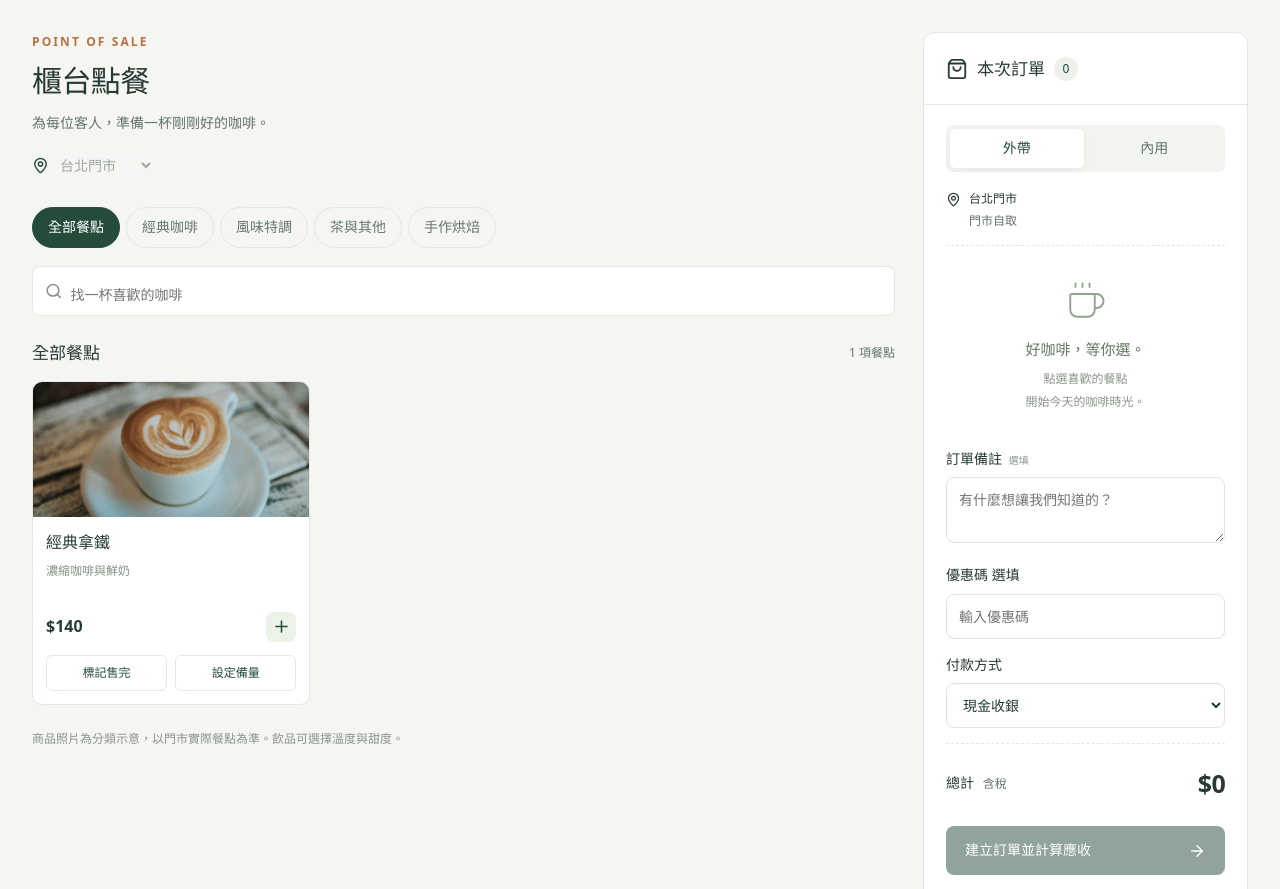
Test: MenuView 可見性 › 門市人員選擇綠界時看不到實收並前往付款
This screenshot has width=1280, height=889.
Click the button "經典拿鐵 濃縮咖啡與鮮奶 $140 標記售完 設定備量": click(171, 449) x1=32 y1=381 x2=310 y2=705
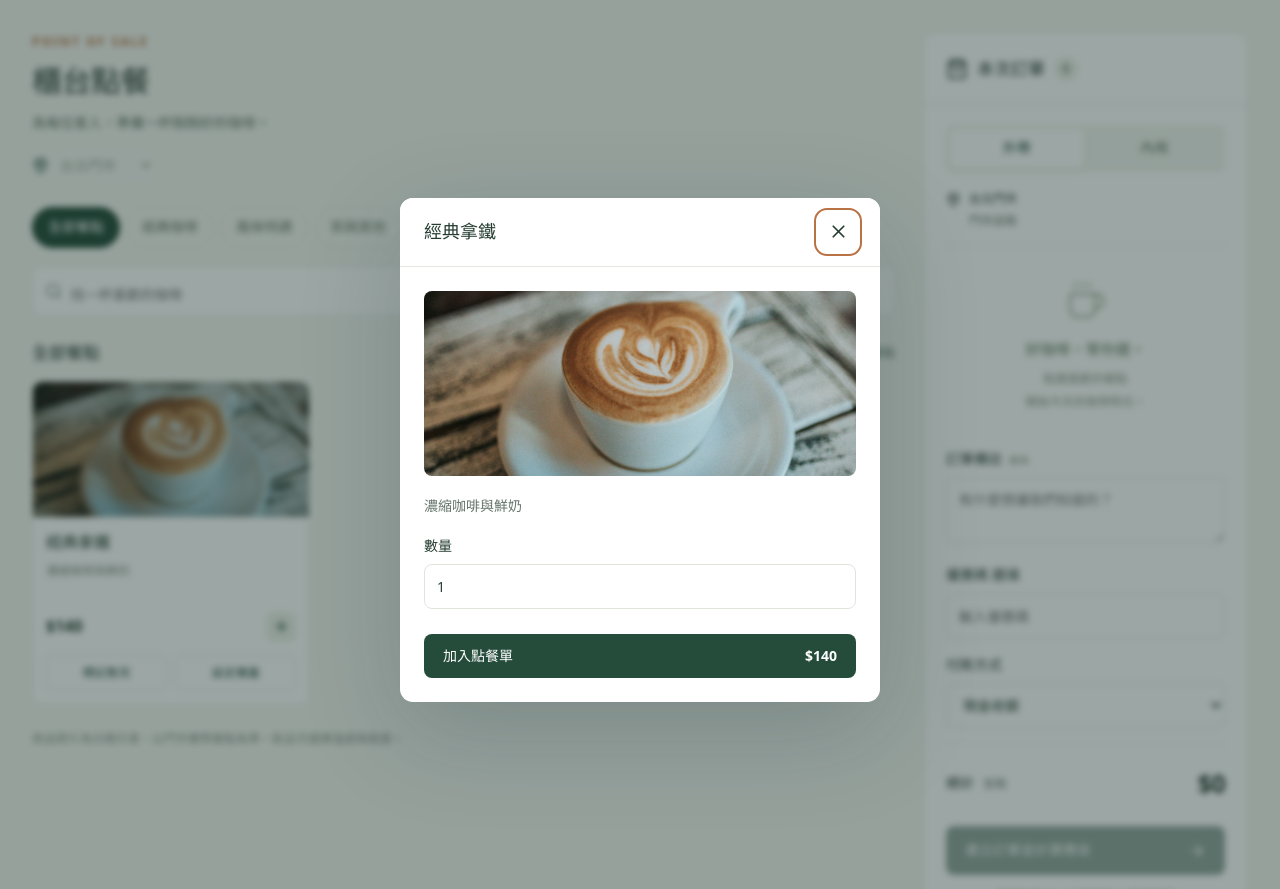
Expected: the button "加入點餐單 $140" is shown
Click the button "加入點餐單 $140": click(478, 656) x1=424 y1=634 x2=856 y2=678
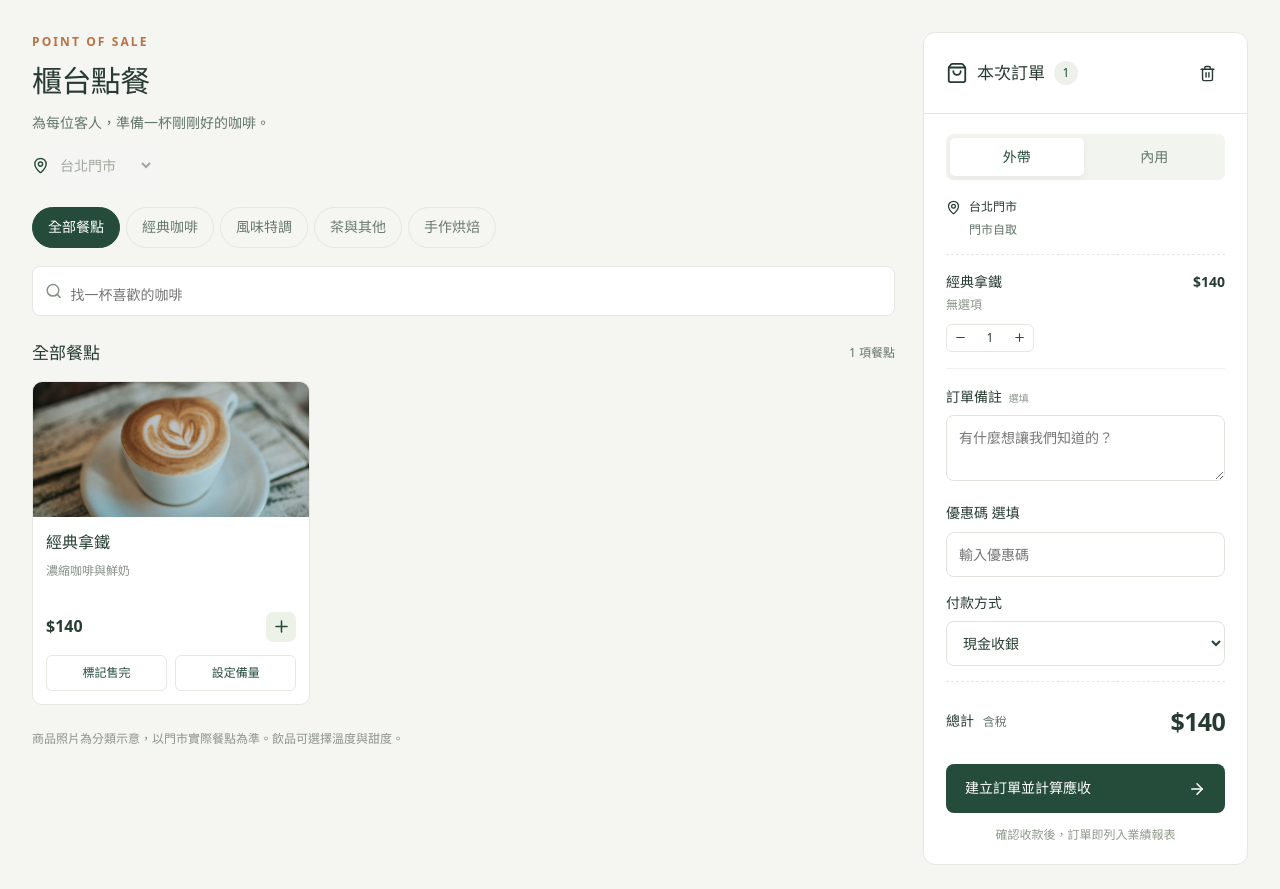
Select "綠界信用卡（測試環境）" in the dropdown labelled "付款方式": (1086, 644) x1=946 y1=621 x2=1225 y2=666
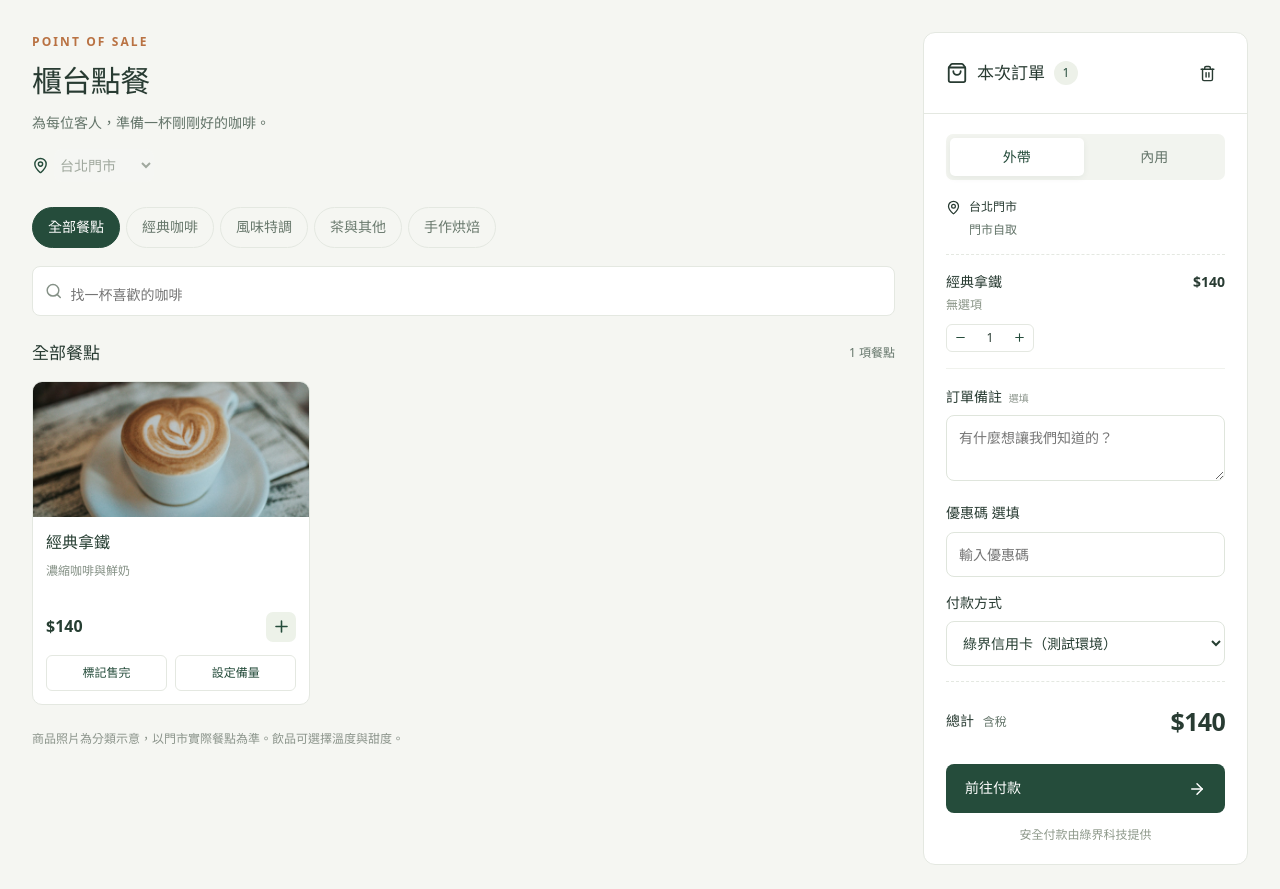
Expected: the button with class "checkout" reads "前往付款", x1=946 y1=764 x2=1225 y2=813
